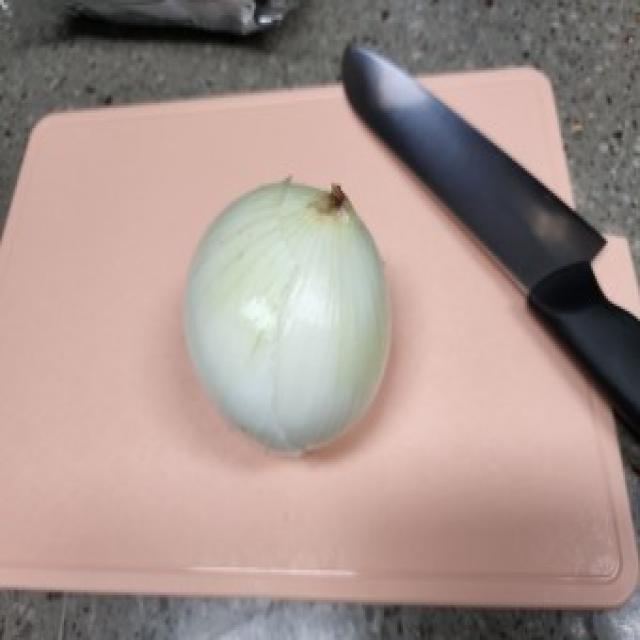Onion: (192, 170, 398, 458)
